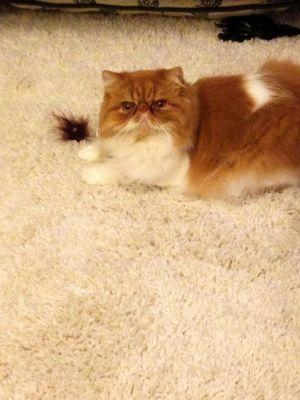persian: (88, 61, 209, 169)
